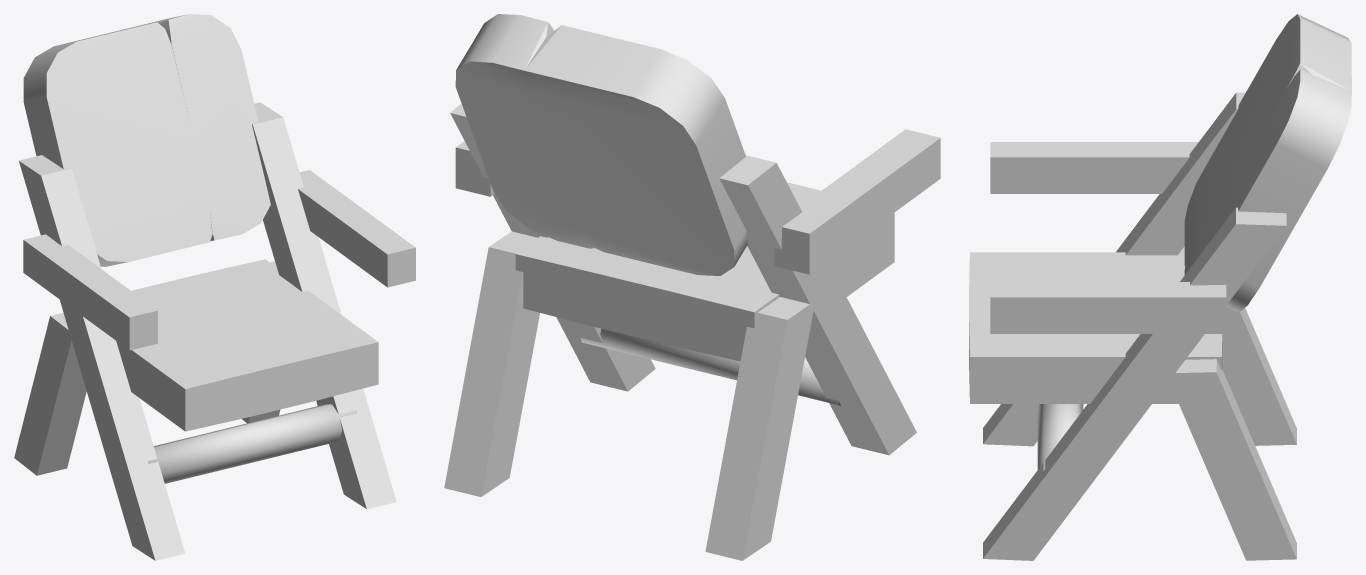
Rendered from Wooden chair.fbx.
The picture shows the model from 3 angles, left to right: view 1: azimuth 30°, elevation 25°; view 2: azimuth 150°, elevation 25°; view 3: azimuth 270°, elevation 25°; orthographic projection. The views are drawn at different scales.
Parts seen in each view (by area): view 1: Wooden chair; view 2: Wooden chair; view 3: Wooden chair.
Boxes of the visible parts, x1=… form: Wooden chair: x1=14, y1=14, x2=415, y2=560; Wooden chair: x1=444, y1=14, x2=940, y2=560; Wooden chair: x1=969, y1=14, x2=1351, y2=560.
Bounding box in the file's own units: 89.29 × 119 × 93.02.
2 materials, 1 textured.
